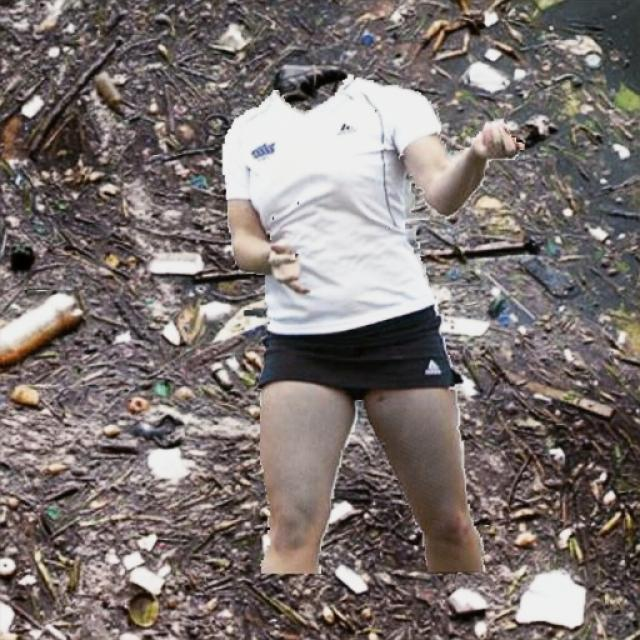Person in Rubble: (222, 73, 524, 572)
